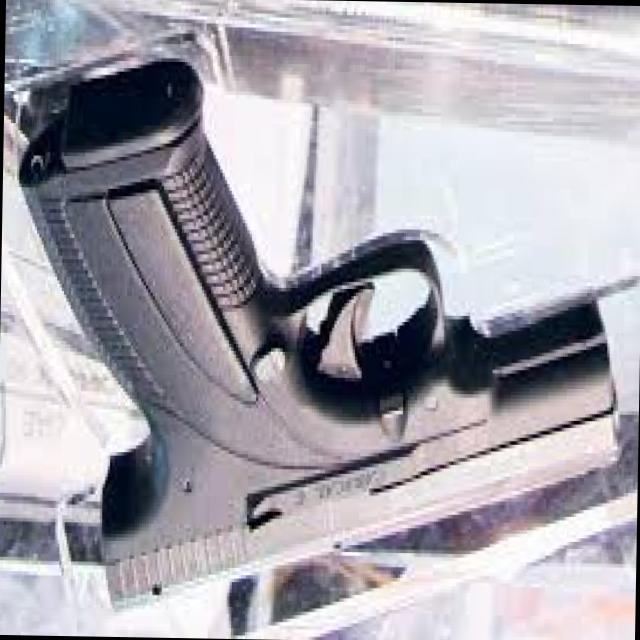Gun: (11, 87, 625, 626)
